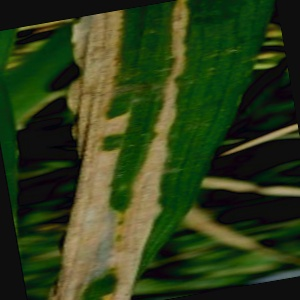Leaf_Blast: (72, 7, 239, 264)
